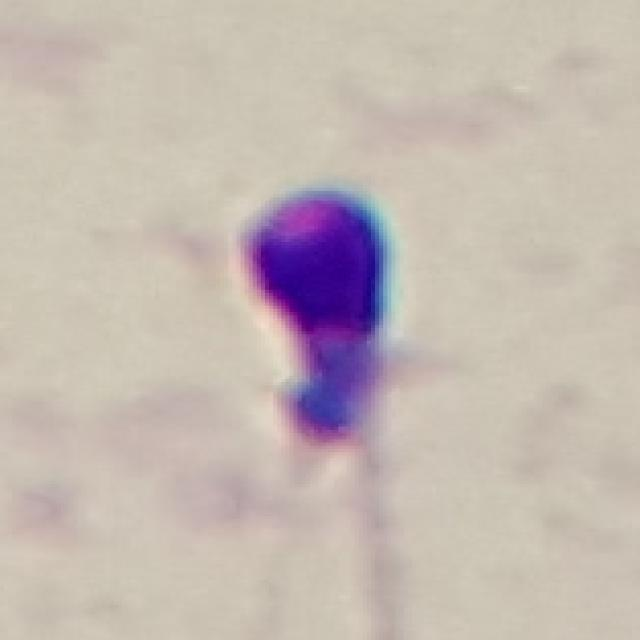abnormal sperm: (224, 172, 420, 628)
